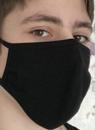with_mask: (1, 2, 95, 130)
